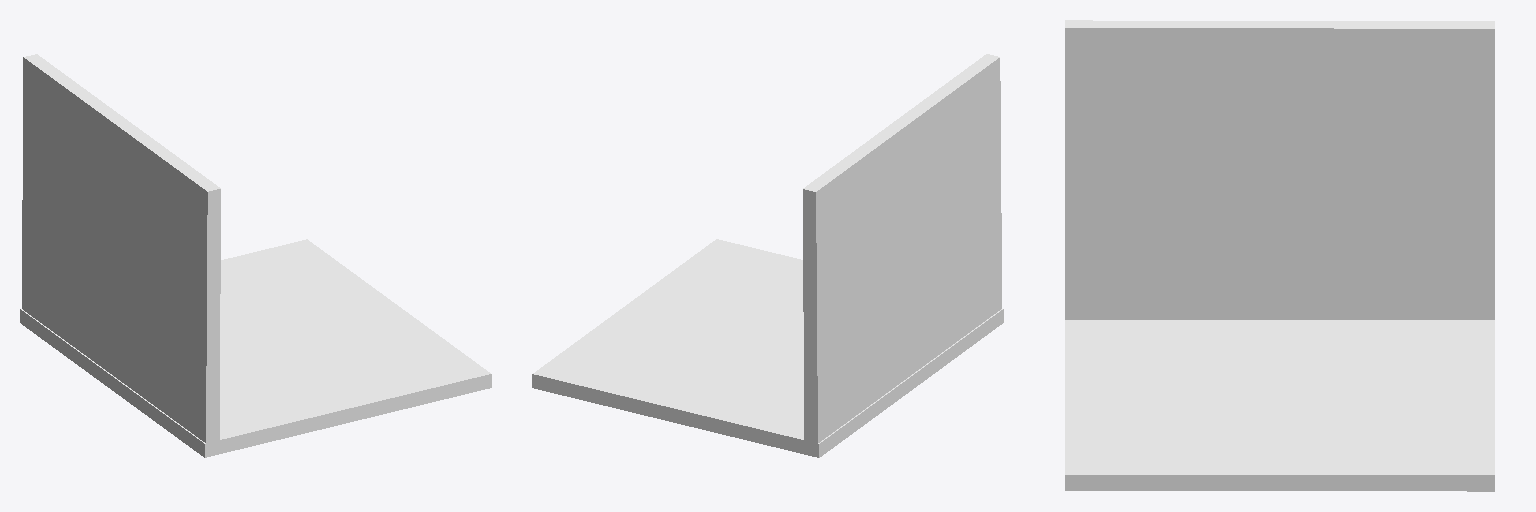
robot.urdf — board:
<?xml version="0.0" ?>
<robot name="board">
    <material name="white">
        <color rgba="1 1 1 1"/>
    </material>

    <link name="baseLink">
        <!-- from lego/lego.urdf -->
        <inertial>
            <origin rpy="0 0 0" xyz="0 0 0"/>
            <mass value="10.0"/>
            <inertia ixx="1" ixy="0" ixz="0" iyy="1" iyz="0" izz="1"/>
        </inertial>
        <visual>
            <origin rpy="1.57 0 0" xyz="0 0 0"/>
            <geometry>
                <!--        radius: 10mm, depth: 14.5mm-->
                <mesh filename="meshes/bi-pegboard.obj" scale="1 1 1"/>
                <!--        <box size="0.002 0.002 0.002"/>-->
            </geometry>
            <material name="white"/>
        </visual>
        <collision>
            <origin rpy="1.57 0 0" xyz="0 0 0"/>
            <geometry>
                <mesh filename="meshes/bi-pegboard_vhacd.obj" scale="1 1 1"/>
                       <!-- <box size="2 2 2"/> -->
            </geometry>
        </collision>
    </link>
</robot>

--- Facts derived from the render (not from the file) ---
3 views of the same robot in one strip: view 1: azimuth 30°, elevation 25°; view 2: azimuth 150°, elevation 25°; view 3: azimuth 270°, elevation 25° (orthographic).
Robot: board — 1 links, 0 joints (none); root link baseLink; default pose: every joint at zero.
Links seen in each view (by area): view 1: baseLink; view 2: baseLink; view 3: baseLink.
Boxes of the visible links, box(x1,y1,x2,y2) form: baseLink: box(20, 54, 491, 457); baseLink: box(532, 54, 1003, 457); baseLink: box(1065, 20, 1494, 491).
Bounding box of the posed robot: 4.47 × 4.98 × 3.96 m (x, y, z).
1 mesh visuals loaded from 1 distinct referenced files (1 OBJ).